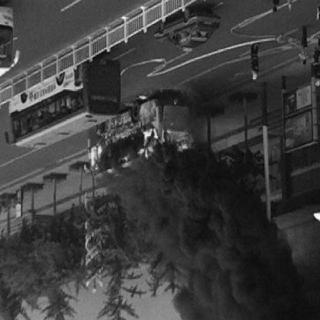Fire: (83, 98, 195, 180)
Smoke: (113, 162, 307, 320)
